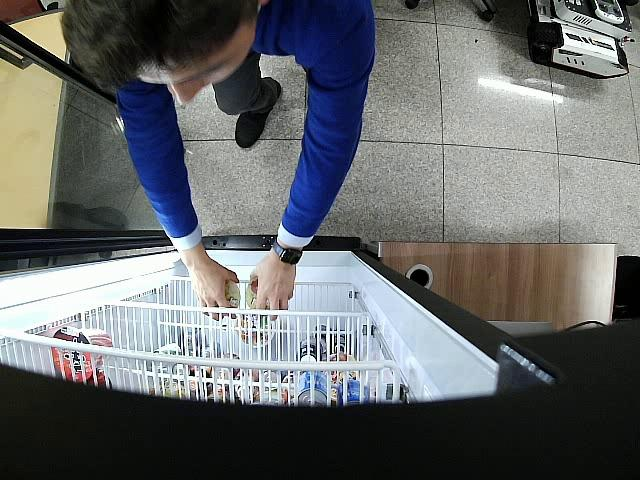00_hand: (191, 253, 240, 321), (249, 260, 296, 321)
04_chapagetti_S: (245, 275, 269, 309), (224, 280, 240, 310)
